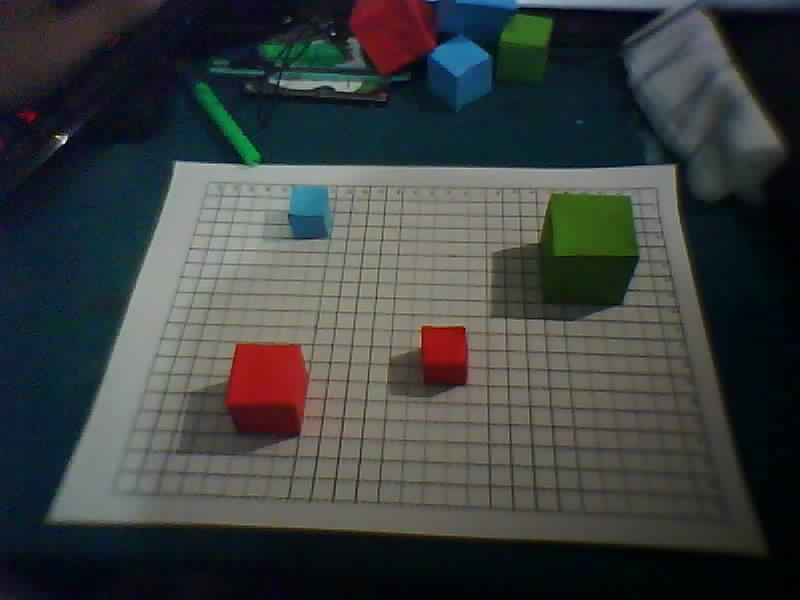LB: (109, 490, 117, 496)
LT: (205, 180, 213, 186)
RB: (724, 519, 732, 525)
RT: (652, 185, 660, 191)
